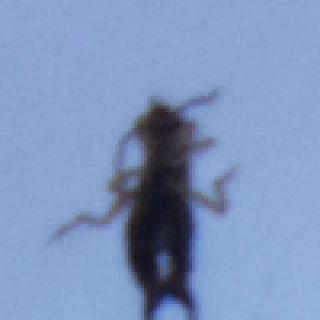earwig: (48, 84, 244, 320)
